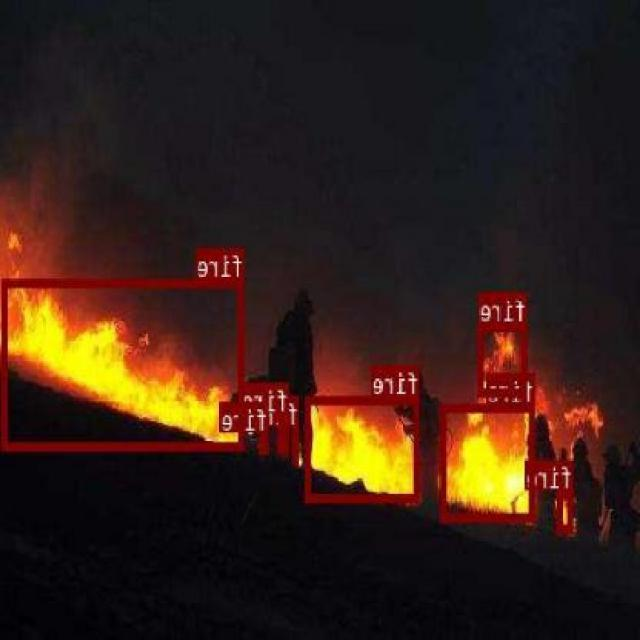Fire: (3, 276, 245, 449), (306, 395, 420, 500), (442, 403, 536, 520), (478, 322, 528, 396), (558, 489, 574, 531)
